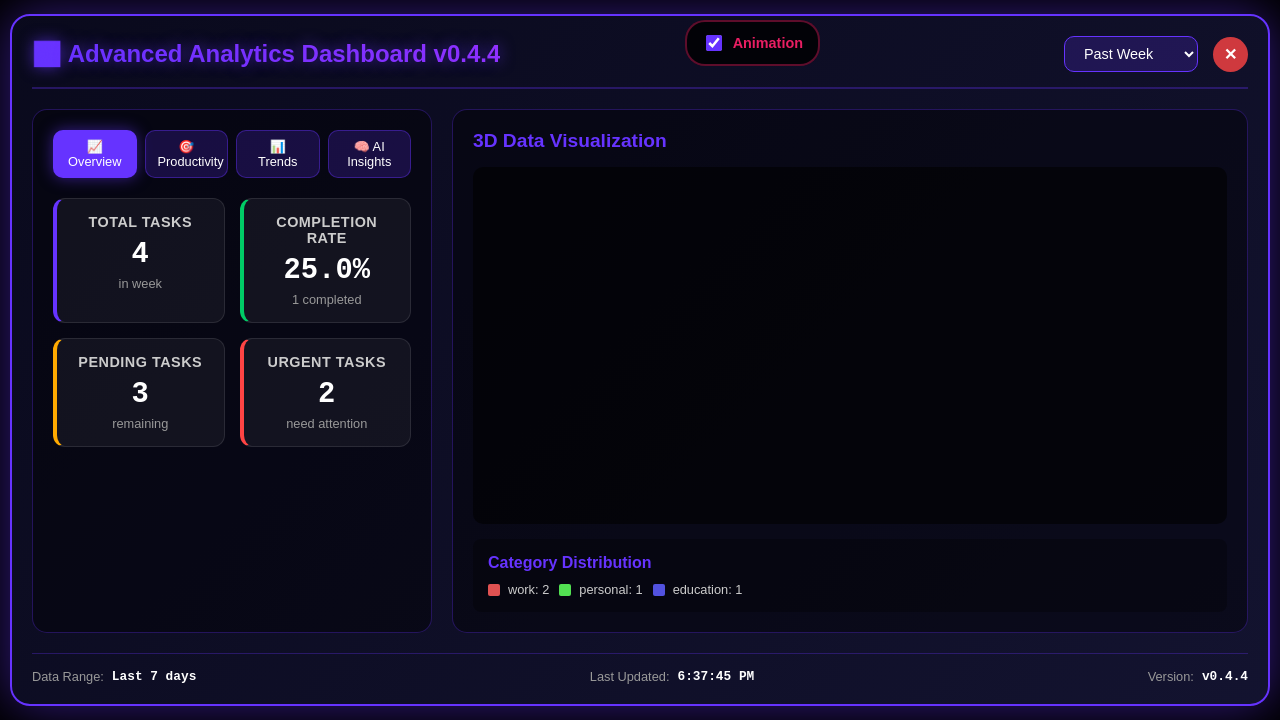
it: AdvancedAnalyticsDashboard › shows priority distribution bars
Click the button "🎯 Productivity": [186, 154] box [144,130,228,178]
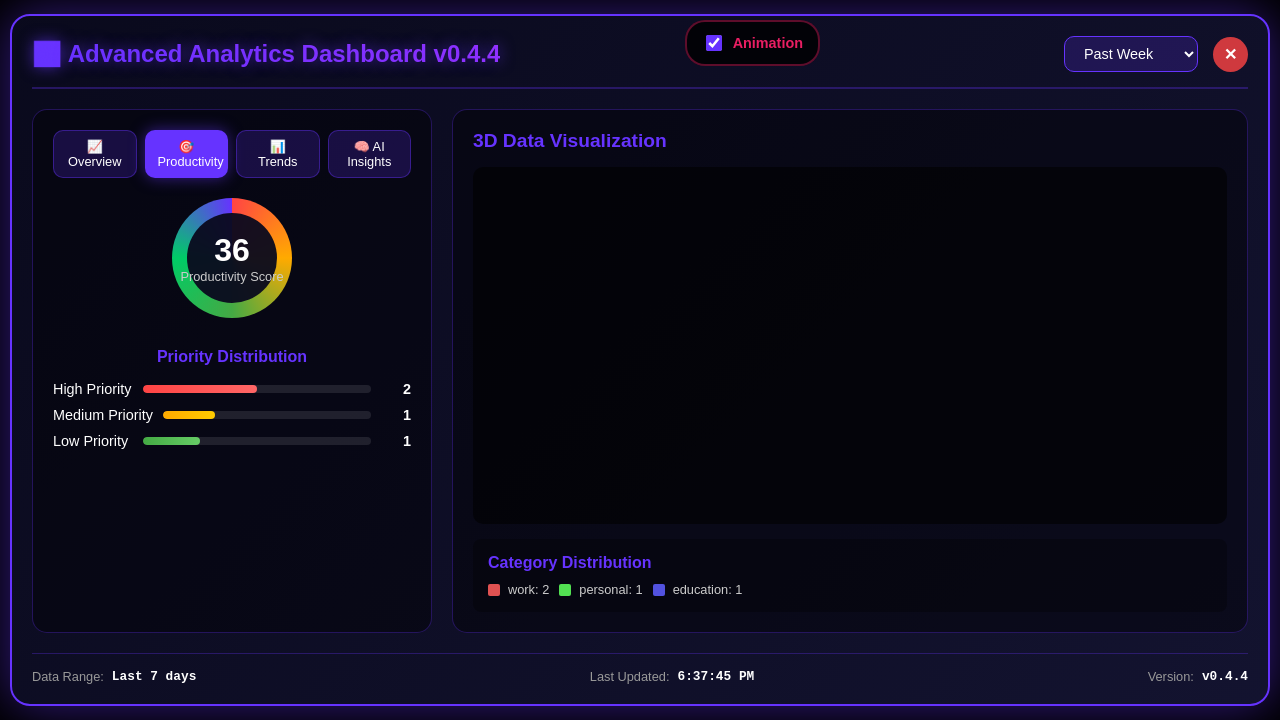
Now the text "High Priority" is shown, box [53,381,133,397]
Now the text "Medium Priority" is shown, box [53,407,153,423]
Now the text "Low Priority" is shown, box [53,433,133,449]
